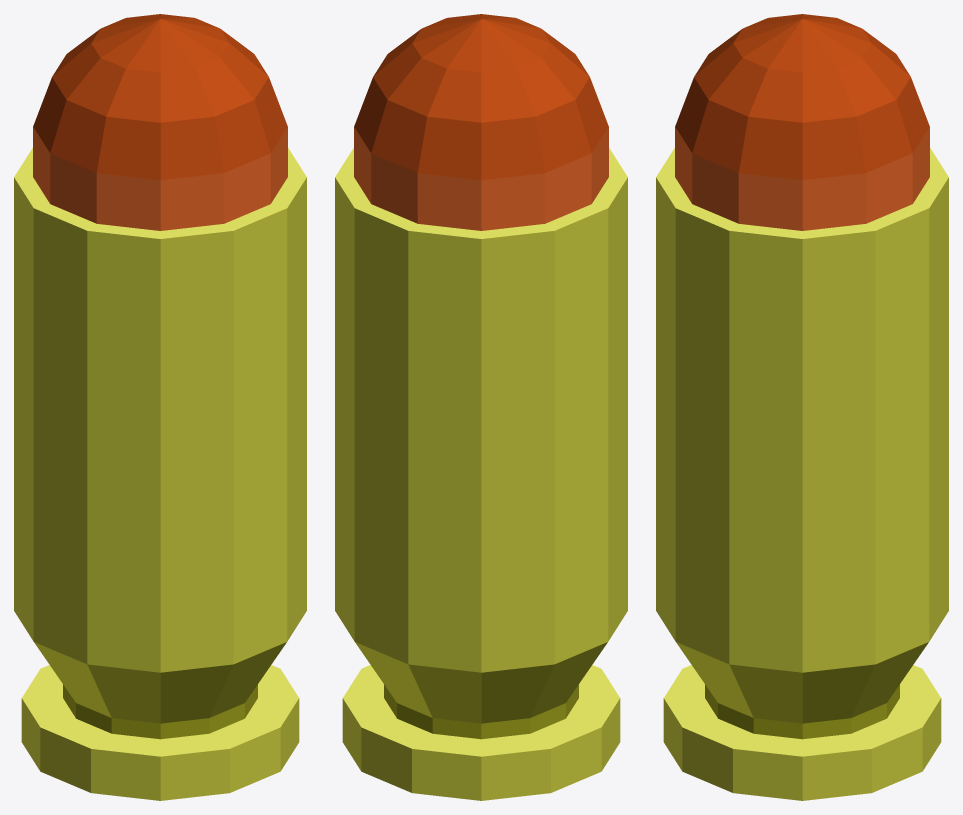
File: mesh_bullet_small.fbx
3 views of the same model, side by side, from view 1: azimuth 30°, elevation 25°; view 2: azimuth 150°, elevation 25°; view 3: azimuth 270°, elevation 25° (orthographic).
Parts seen in each view (by area): view 1: mesh_bullet_small; view 2: mesh_bullet_small; view 3: mesh_bullet_small.
Part boxes in pixels (x1=…): mesh_bullet_small: x1=14, y1=14, x2=306, y2=800; mesh_bullet_small: x1=335, y1=14, x2=627, y2=800; mesh_bullet_small: x1=656, y1=14, x2=948, y2=800.
Size of the model in its own units: 0.0184 by 0.0501 by 0.0184.
